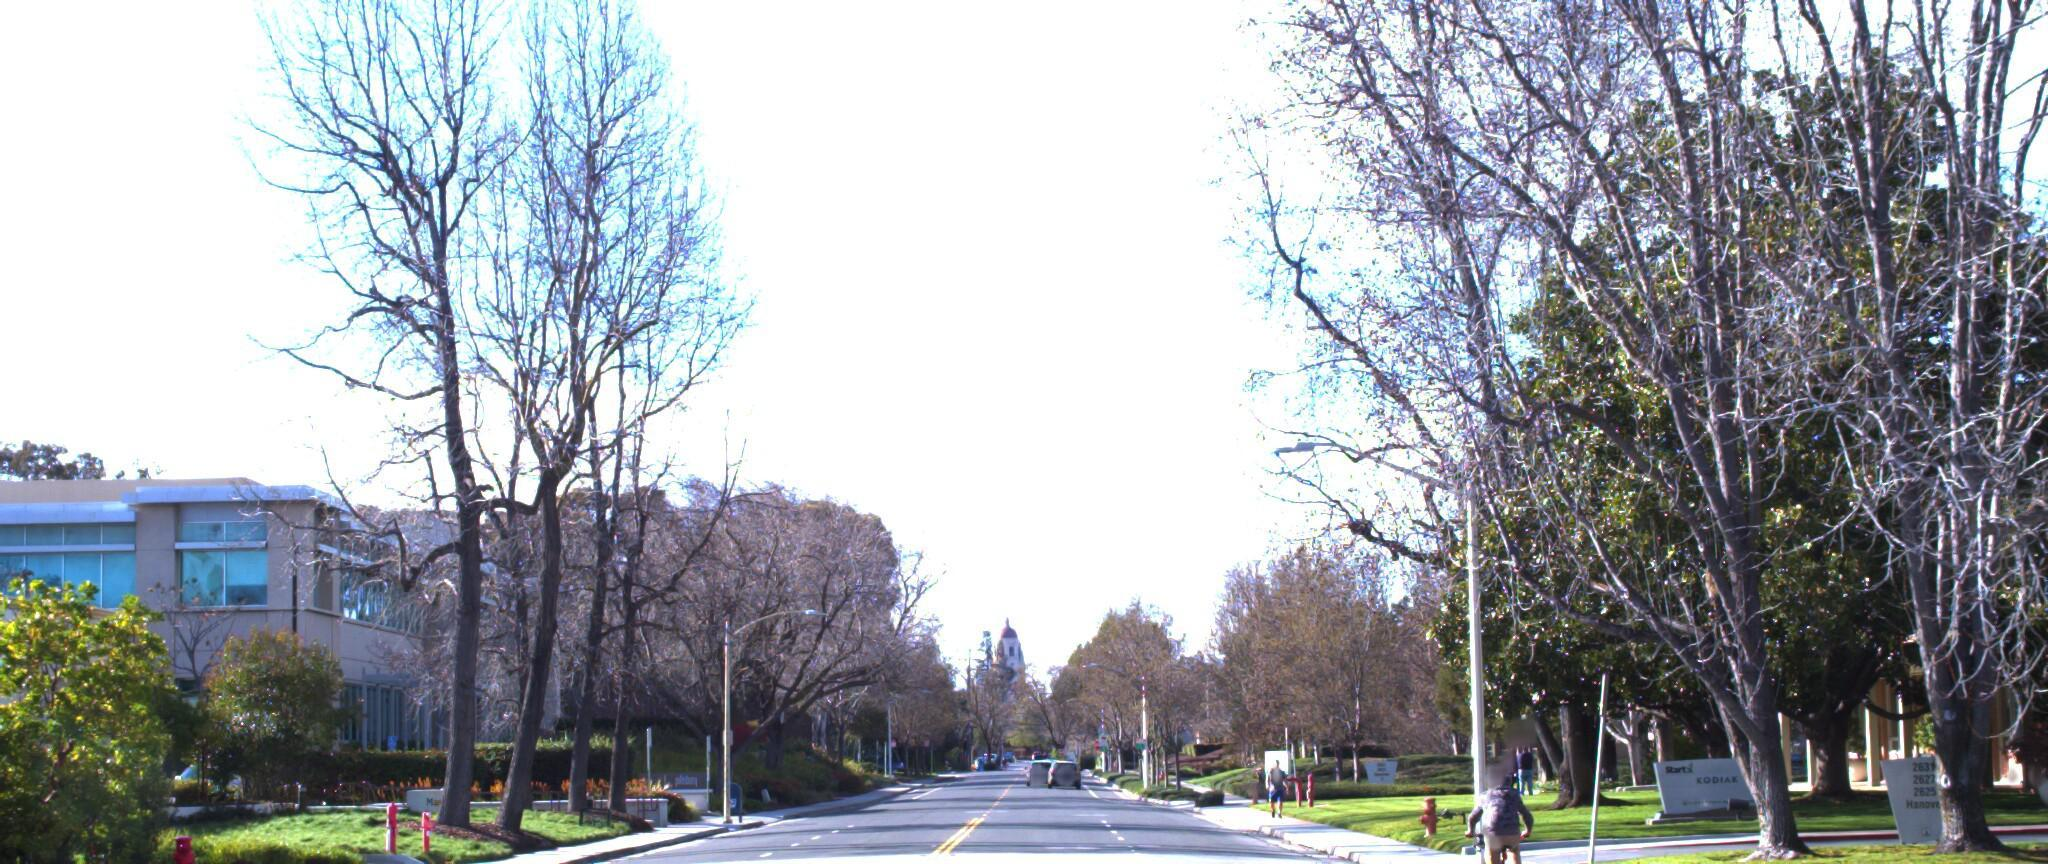bicycle: (1428, 754, 1537, 864)
